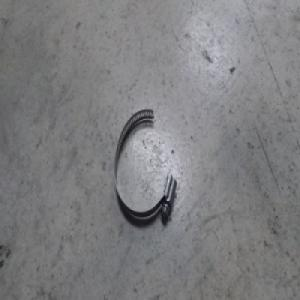AdjustableClamp: (112, 106, 176, 223)
